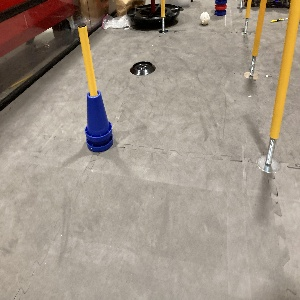Blue_2: (82, 91, 113, 150)
